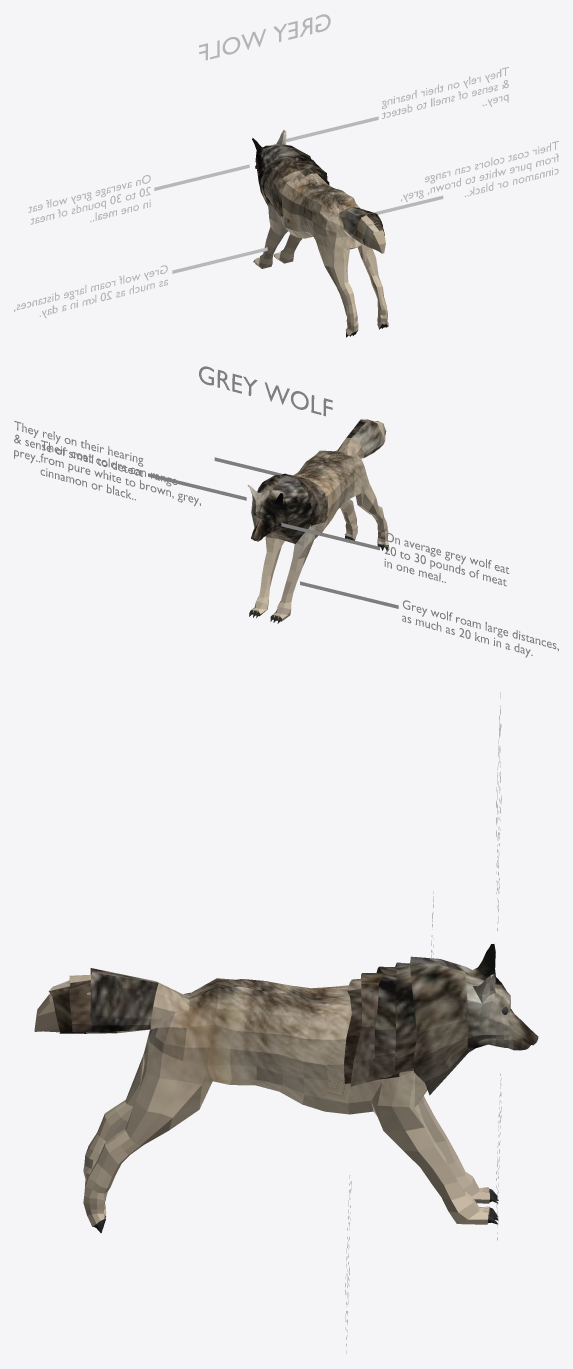
File: source.glb
The picture shows the model from 3 angles, top to bottom: view 1: azimuth 30°, elevation 25°; view 2: azimuth 150°, elevation 25°; view 3: azimuth 270°, elevation 25°; orthographic projection. The views are drawn at different scales.
Visible parts, largest first — view 1: Cube, Text.004, Text.003, Text.002, Text.001, Text; view 2: Cube, Text.004, Text.003, Text.002, Text.001, Text, NurbsPath, NurbsPath.001, NurbsPath.002; view 3: Cube.
Boxes of the visible parts, <box> form: Cube: <box>252,130,388,337</box>; Text.004: <box>401,140,558,201</box>; Text.003: <box>28,175,150,224</box>; Text.002: <box>382,67,508,118</box>; Text.001: <box>14,265,167,318</box>; Text: <box>199,14,330,60</box>; Cube: <box>247,419,388,623</box>; Text.004: <box>40,440,200,506</box>; Text.003: <box>384,533,509,586</box>; Text.002: <box>14,421,143,476</box>; Text.001: <box>402,600,558,657</box>; Text: <box>199,366,332,416</box>; NurbsPath: <box>300,581,398,608</box>; NurbsPath.001: <box>281,523,379,550</box>; NurbsPath.002: <box>148,473,246,500</box>; Cube: <box>34,944,538,1232</box>.
Size of the model in its own units: 2195 by 936 by 916.
4 materials, 1 textured.
